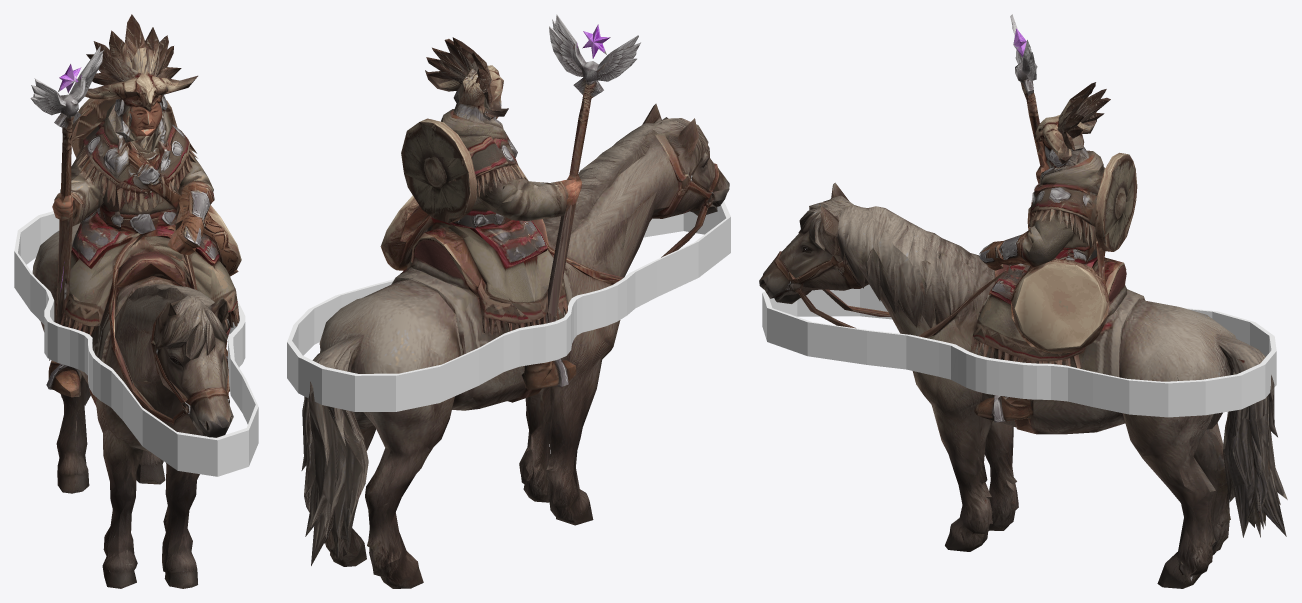
File: steppe_sky_shaman.glb
3 renders of one model, left to right at view 1: azimuth 30°, elevation 25°; view 2: azimuth 150°, elevation 25°; view 3: azimuth 270°, elevation 25°, orthographic. The views are drawn at different scales.
Parts seen in each view (by area): view 1: steppe_sky_shaman, Team_band; view 2: steppe_sky_shaman, Team_band; view 3: steppe_sky_shaman, Team_band.
Boxes of the visible parts, x1,y1,x2,y2 form: steppe_sky_shaman: (30, 14, 241, 588); Team_band: (14, 211, 258, 476); steppe_sky_shaman: (301, 14, 729, 588); Team_band: (287, 201, 730, 411); steppe_sky_shaman: (759, 14, 1287, 588); Team_band: (762, 284, 1276, 417).
Bounding box in the file's own units: 0.9584 × 1.9 × 1.87.
2 materials, 1 textured.
